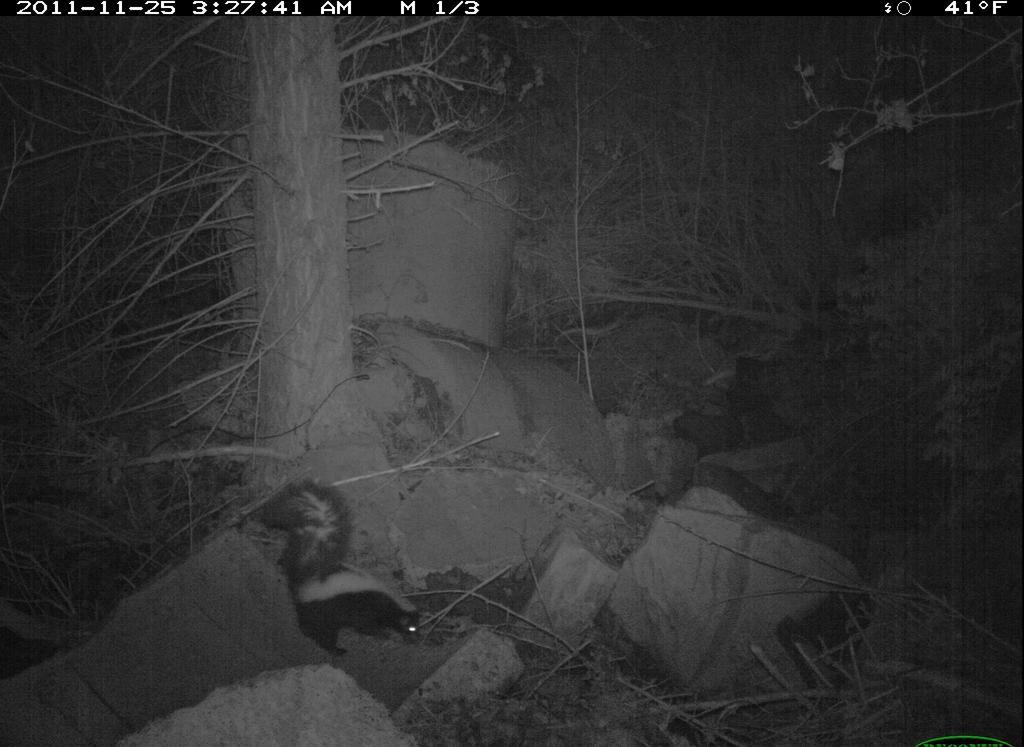skunk: (253, 479, 433, 660)
